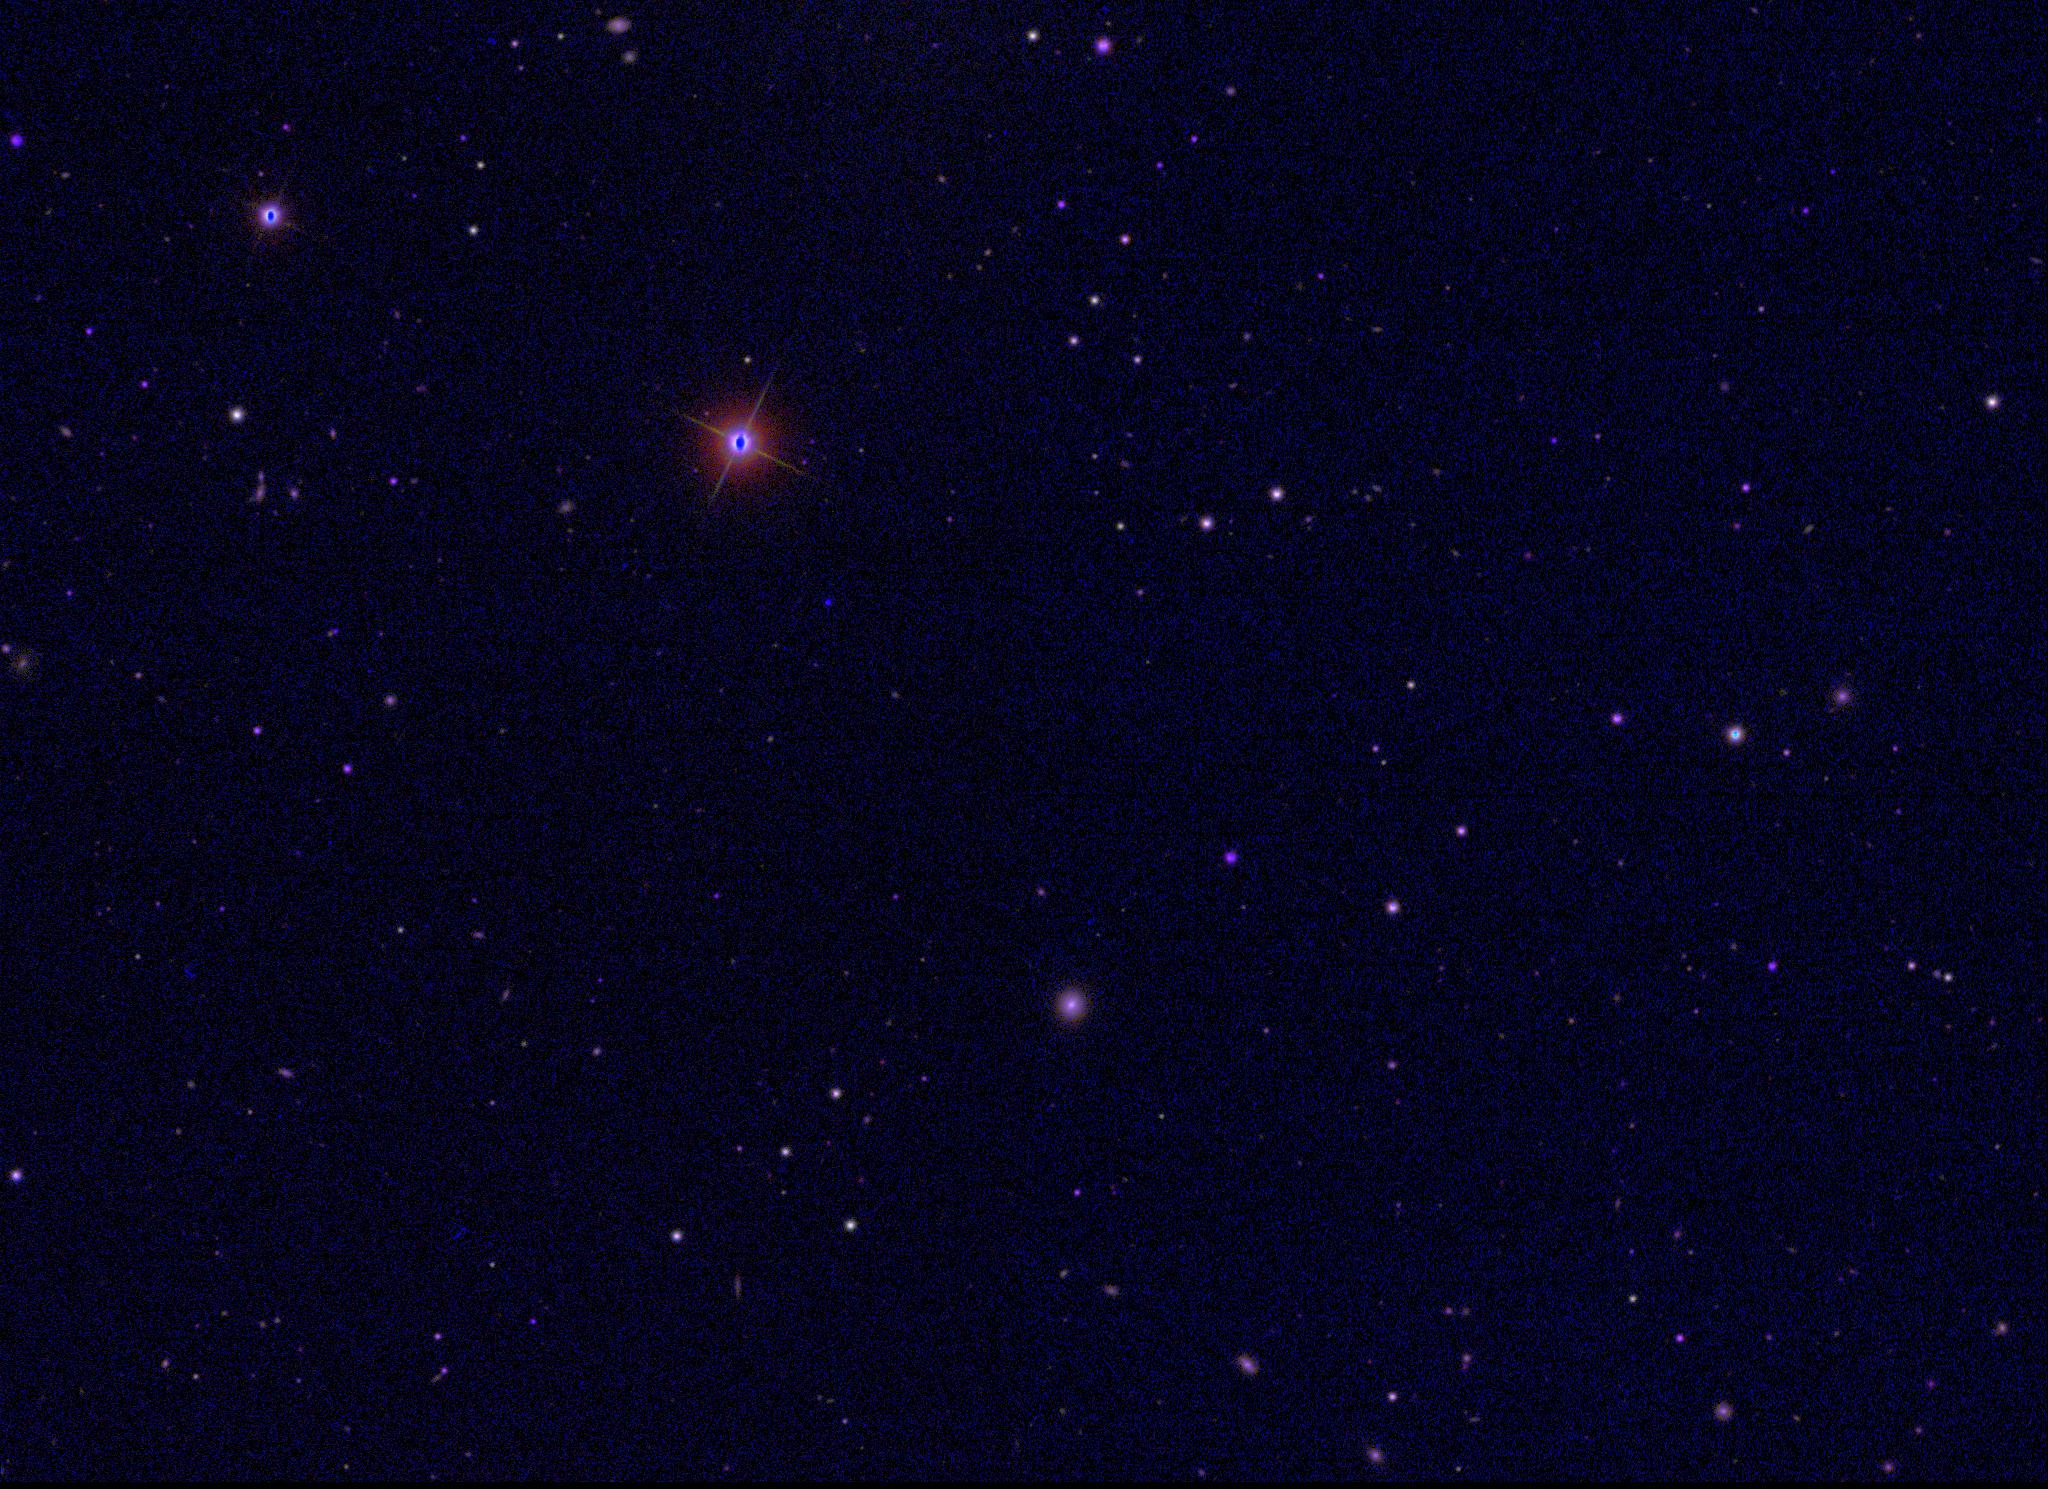L: (817, 597, 832, 609)
